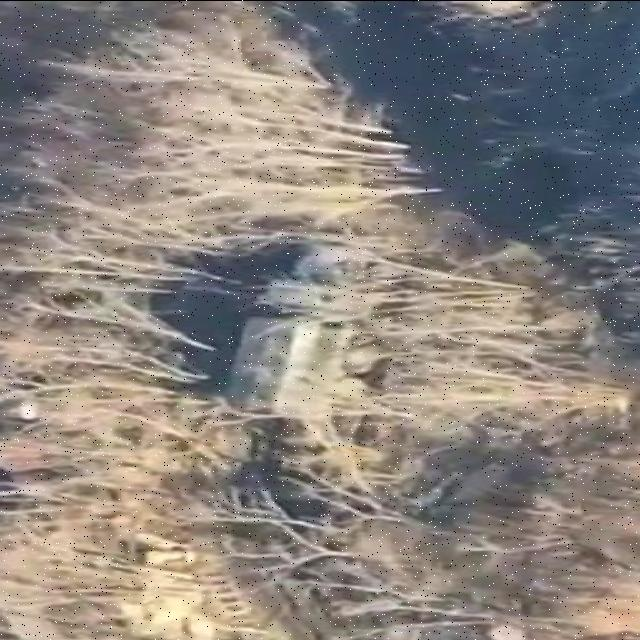TRUCK: (214, 244, 396, 418)
